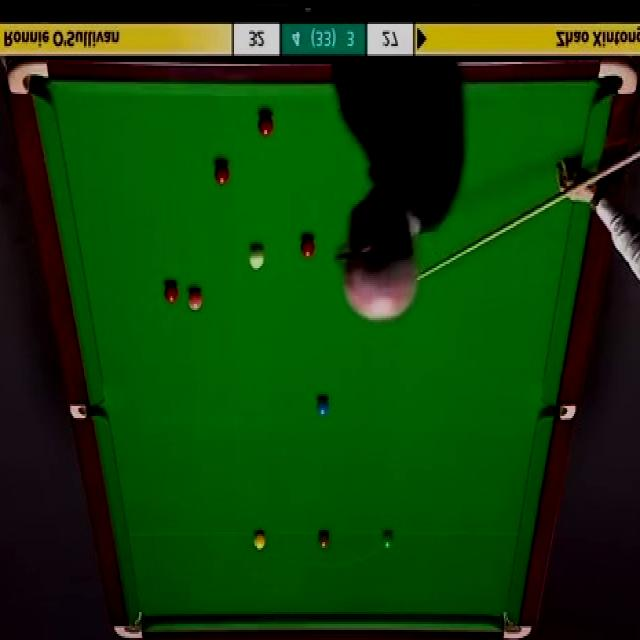pocket: (594, 58, 639, 97), (7, 58, 50, 96), (112, 606, 145, 640), (499, 608, 530, 640), (539, 400, 576, 422), (67, 405, 105, 420)
